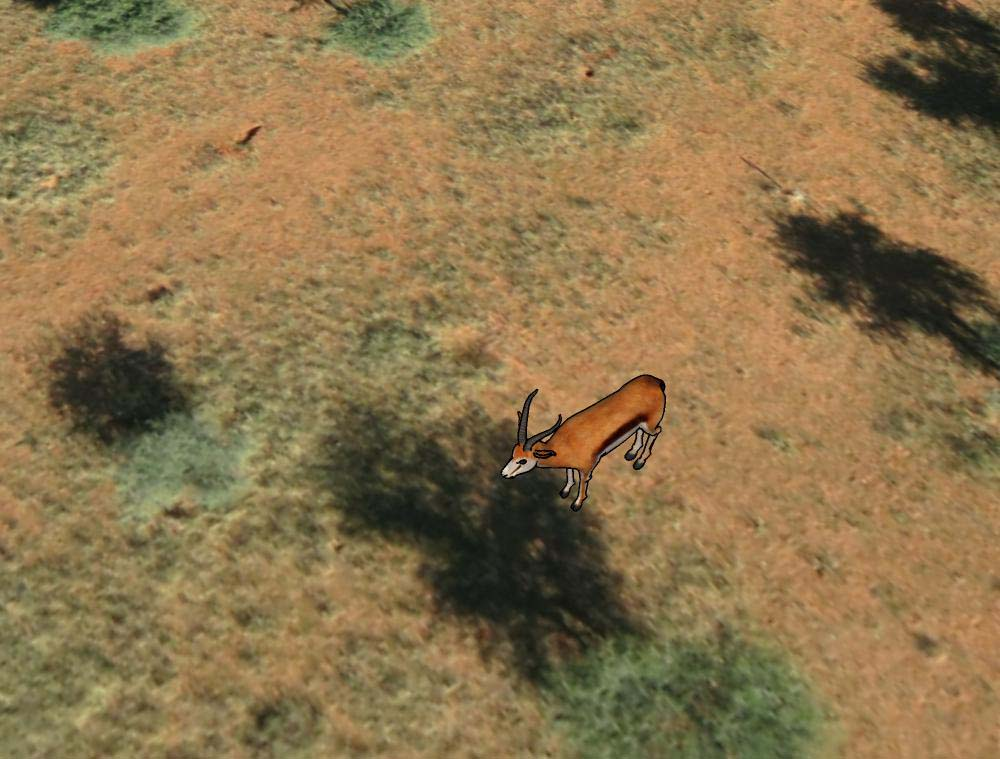springbok: (498, 369, 672, 512)
